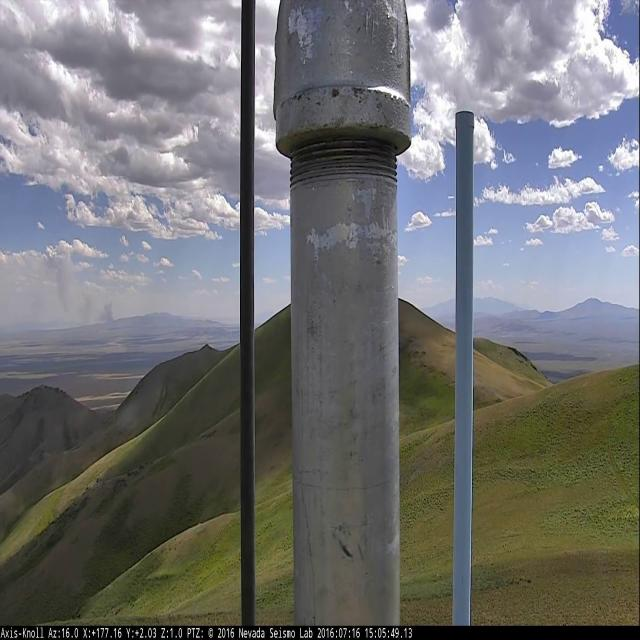smoke: (58, 266, 115, 324)
